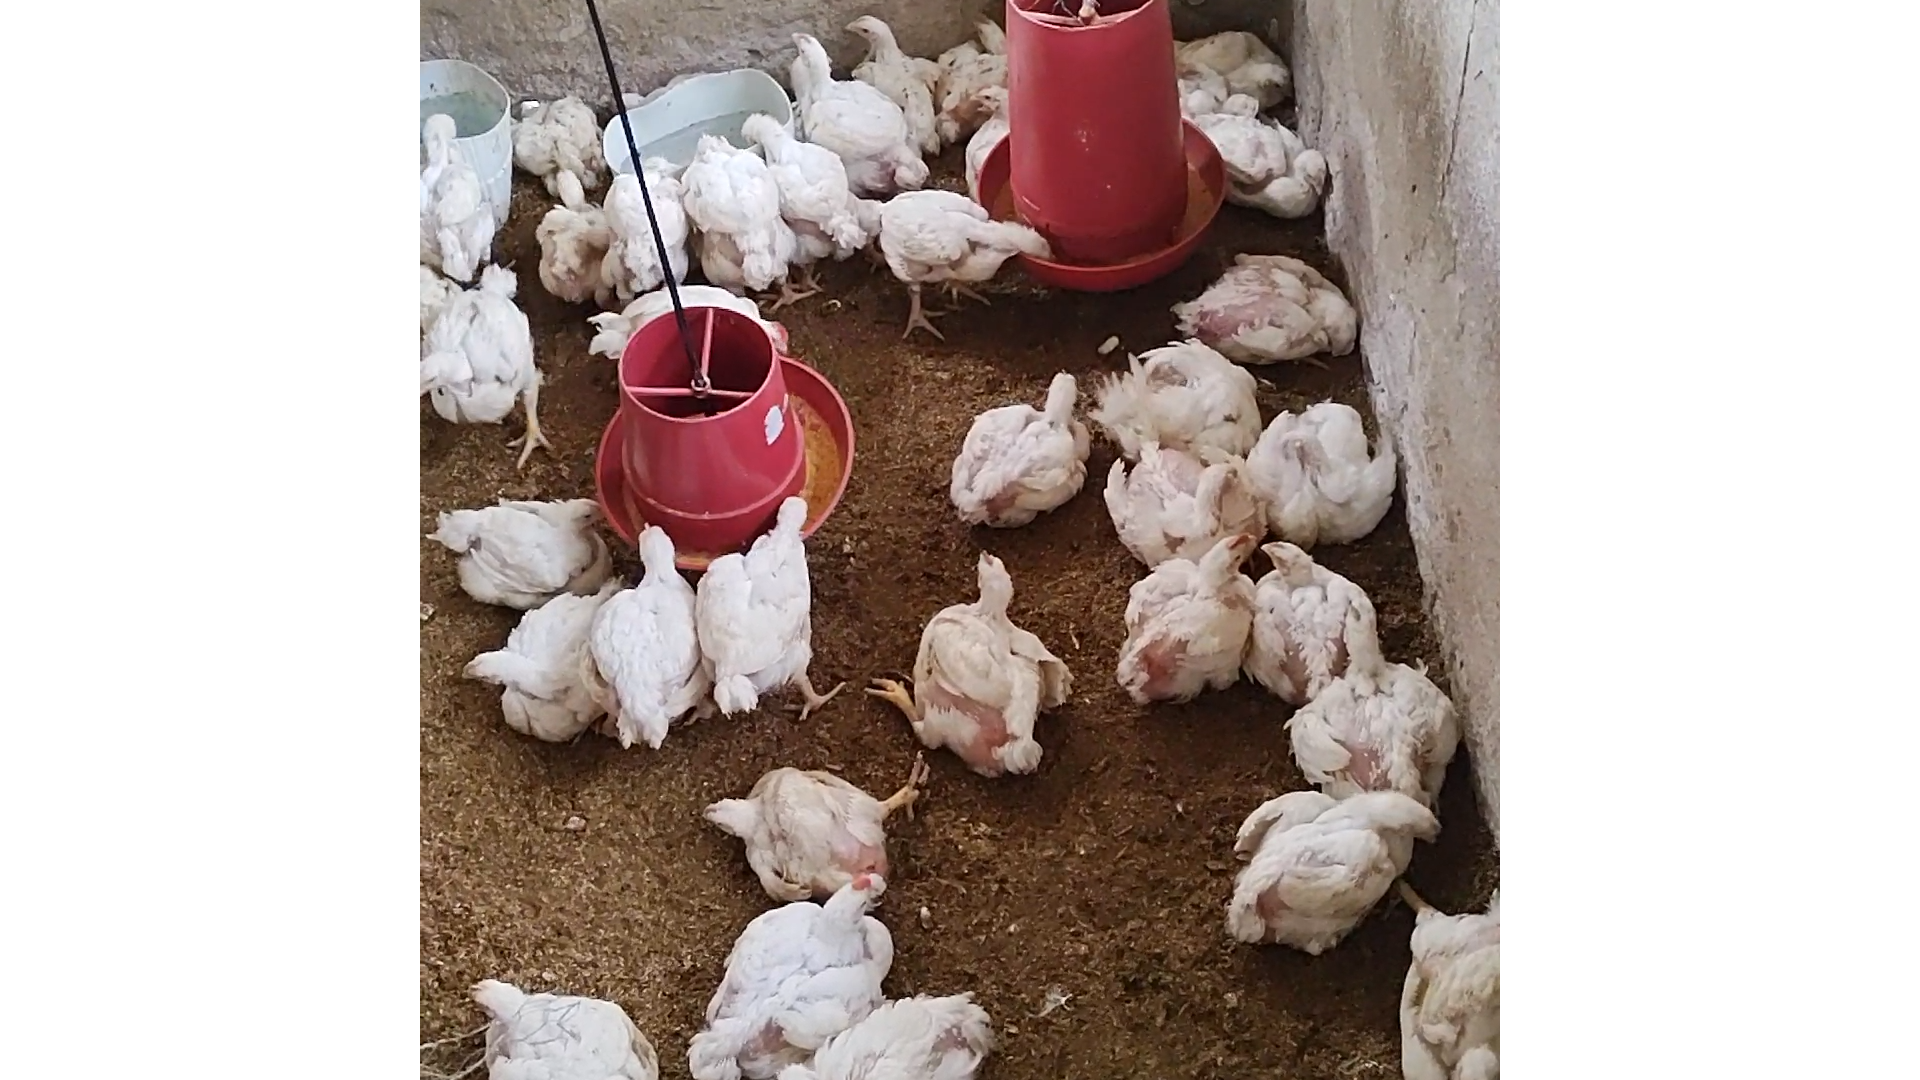Pollos: (874, 547, 1073, 782), (692, 866, 913, 1073), (1215, 781, 1455, 957), (1280, 595, 1460, 808), (444, 579, 644, 754), (694, 761, 938, 902), (696, 484, 825, 731), (419, 258, 564, 460), (1113, 517, 1269, 702), (878, 185, 1054, 340), (589, 516, 705, 750), (1234, 398, 1416, 543), (931, 367, 1091, 527), (676, 127, 814, 310), (1164, 237, 1370, 359), (1236, 535, 1382, 704), (1085, 332, 1273, 462), (736, 107, 868, 280), (782, 30, 928, 185), (774, 986, 1006, 1080), (429, 488, 620, 600), (458, 973, 661, 1079), (1106, 433, 1262, 568), (836, 11, 949, 156), (525, 156, 622, 320), (1189, 105, 1335, 216), (595, 156, 698, 306), (413, 105, 498, 280), (1162, 22, 1299, 111), (512, 88, 618, 191), (949, 79, 1014, 202)
